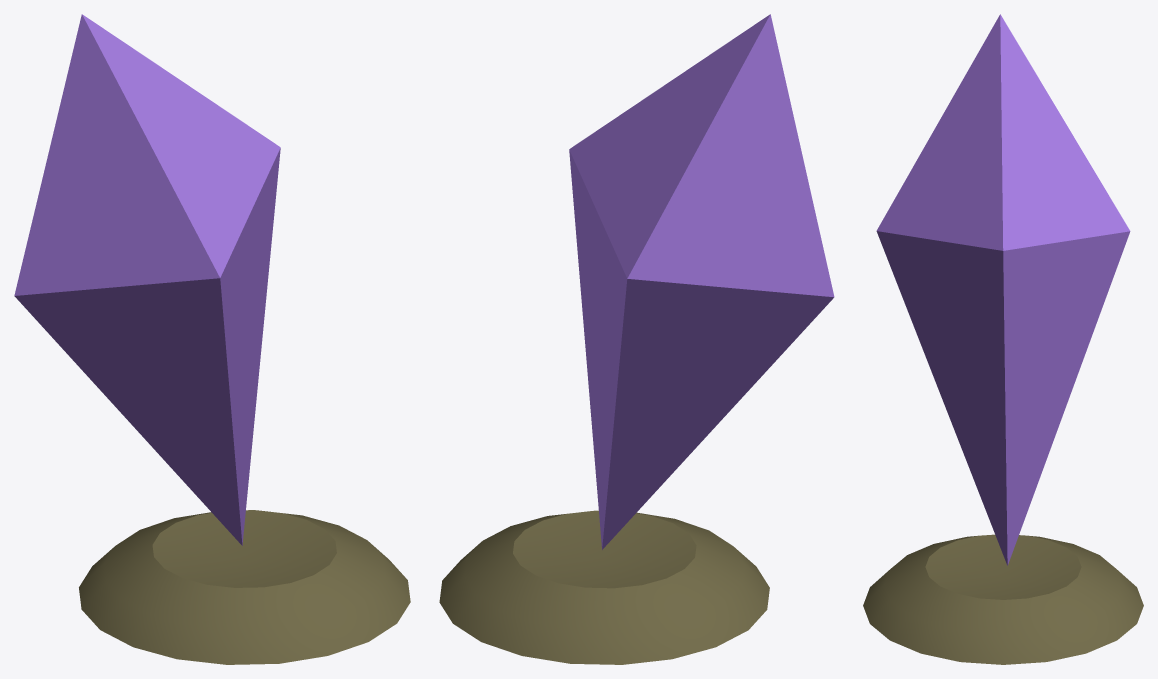
The model's file is Cristal_blocking.fbx.
3 views of the same model, side by side, from view 1: azimuth 30°, elevation 25°; view 2: azimuth 150°, elevation 25°; view 3: azimuth 270°, elevation 25° (orthographic). The views are drawn at different scales.
Parts seen in each view (by area): view 1: Cristal, Cristal_base; view 2: Cristal, Cristal_base; view 3: Cristal, Cristal_base.
Part boxes in pixels (x1,y1,x2,y2): Cristal: (14, 14, 280, 545); Cristal_base: (79, 510, 410, 664); Cristal: (569, 14, 834, 549); Cristal_base: (439, 510, 769, 664); Cristal: (876, 14, 1130, 565); Cristal_base: (863, 534, 1143, 664).
Size of the model in its own units: 2.19 by 3.48 by 1.69.
